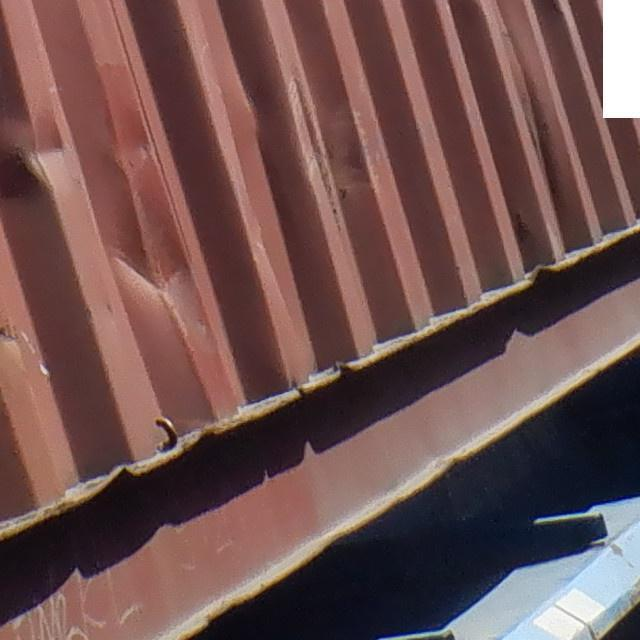dent: (14, 66, 227, 320)
